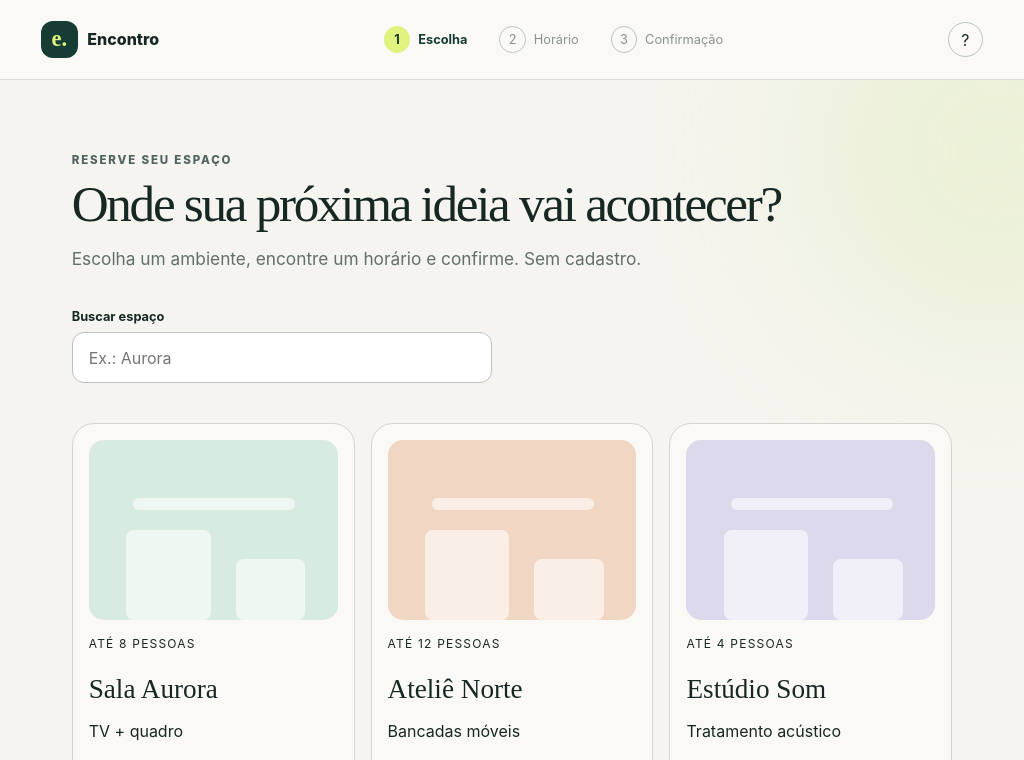
Test case: booking journey › shows and recovers from empty search
In the field labelled "Buscar espaço": x=282, y=358 top-left (72, 332), bottom-right (492, 383), type "inexistente"
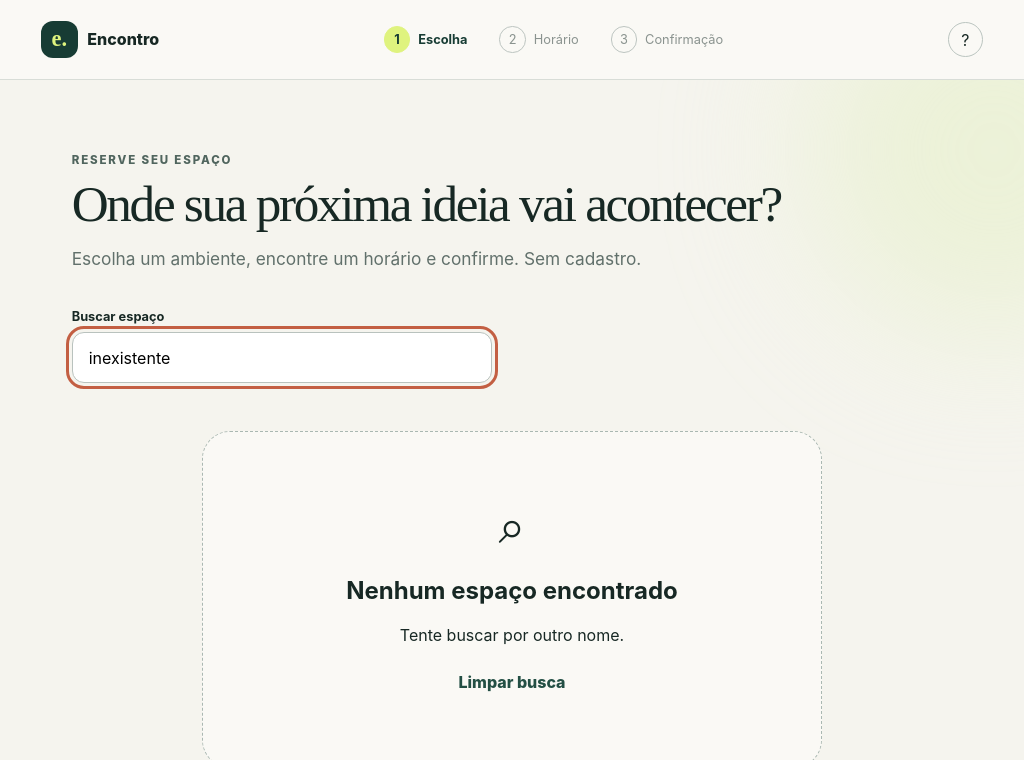
Now the heading "Nenhum espaço encontrado" is shown, box top-left (346, 576), bottom-right (678, 605)
Click the button "Limpar busca": x=512, y=682 top-left (458, 661), bottom-right (566, 703)
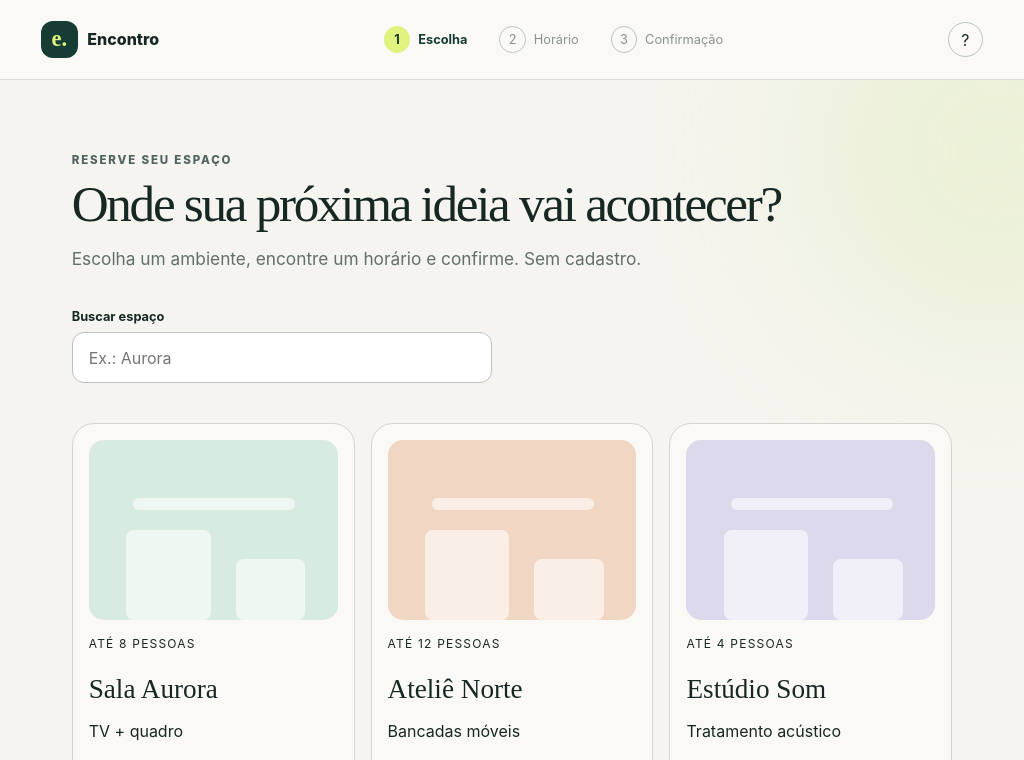
Now the heading "Sala Aurora" is shown, box top-left (89, 674), bottom-right (218, 704)
